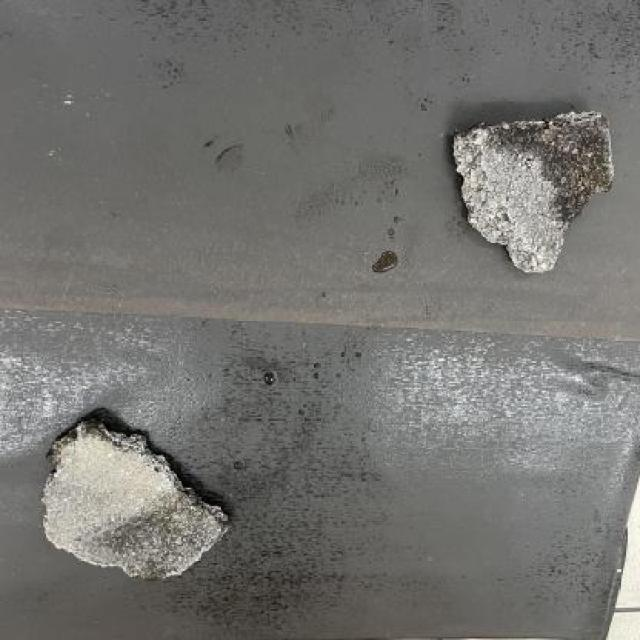Road Debris: (76, 484, 226, 584), (488, 111, 618, 220)
